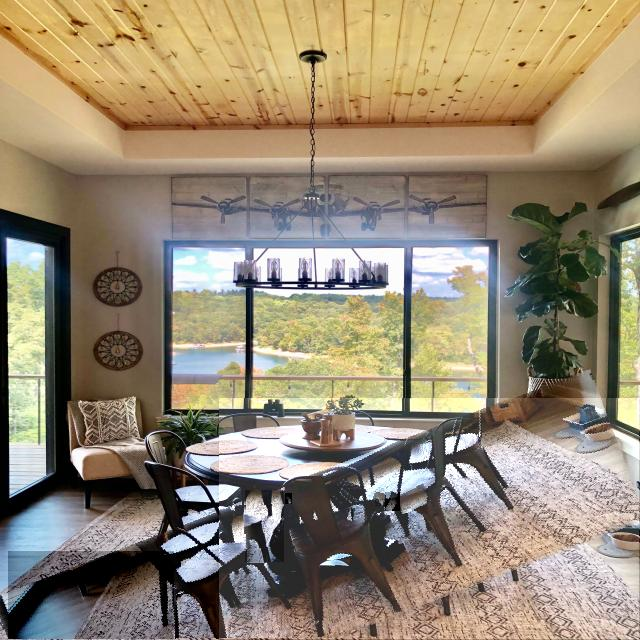floor: (220, 399, 639, 639), (8, 551, 174, 640), (245, 490, 284, 562), (177, 595, 216, 639), (400, 487, 428, 514), (385, 493, 401, 511), (320, 561, 351, 567), (375, 493, 386, 506), (285, 493, 292, 504), (348, 508, 353, 521), (187, 510, 199, 514), (315, 512, 318, 520), (232, 504, 235, 511)
